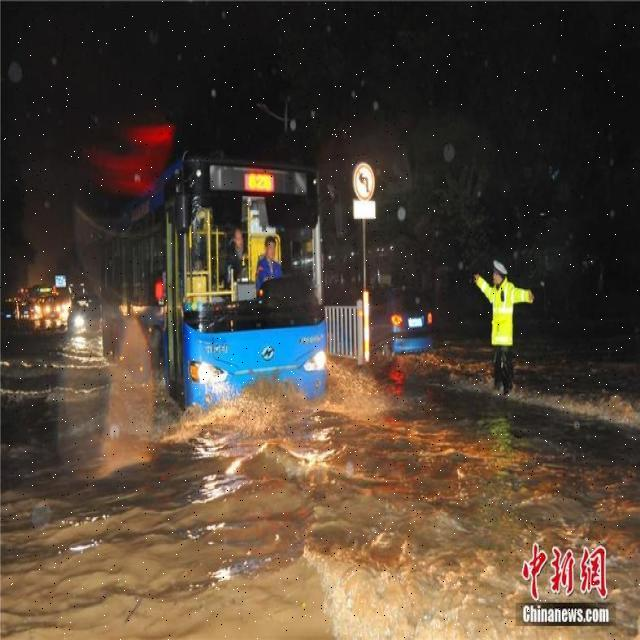rescuer: (468, 255, 536, 390)
